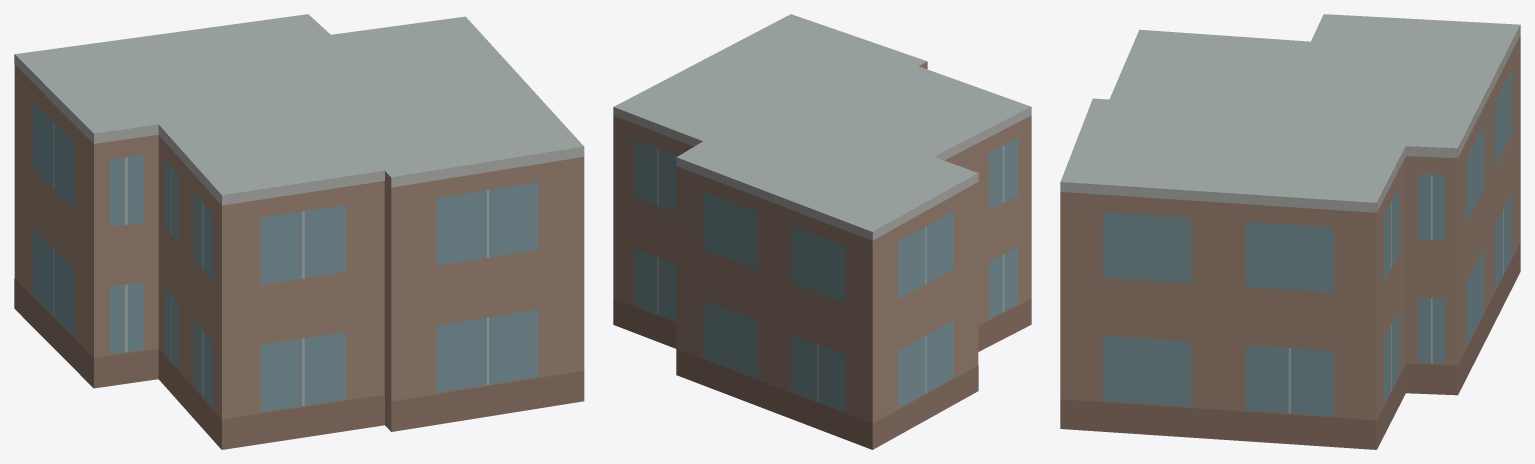
File: survey-upis-32801119.glb
The picture shows the model from 3 angles, left to right: view 1: azimuth 30°, elevation 25°; view 2: azimuth 150°, elevation 25°; view 3: azimuth 270°, elevation 25°; orthographic projection. The views are drawn at different scales.
Parts seen in each view (by area): view 1: survey-upis-32801119.tmp; view 2: survey-upis-32801119.tmp; view 3: survey-upis-32801119.tmp.
Boxes of the visible parts, bbox=[...] form: survey-upis-32801119.tmp: bbox=[14, 14, 584, 449]; survey-upis-32801119.tmp: bbox=[613, 14, 1031, 449]; survey-upis-32801119.tmp: bbox=[1060, 14, 1520, 449].
Bounding box in the file's own units: 10.02 × 6.1 × 10.31.
